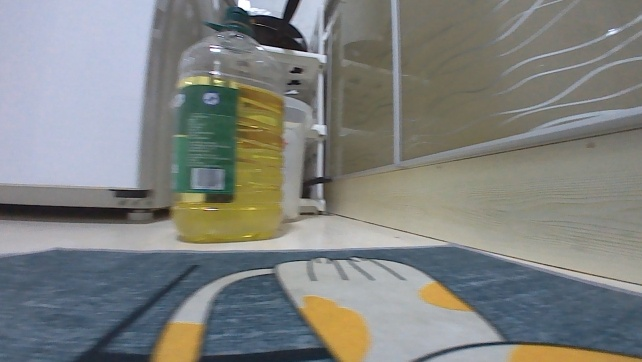blanket: (0, 239, 641, 361)
cupboard1: (320, 0, 641, 291)
